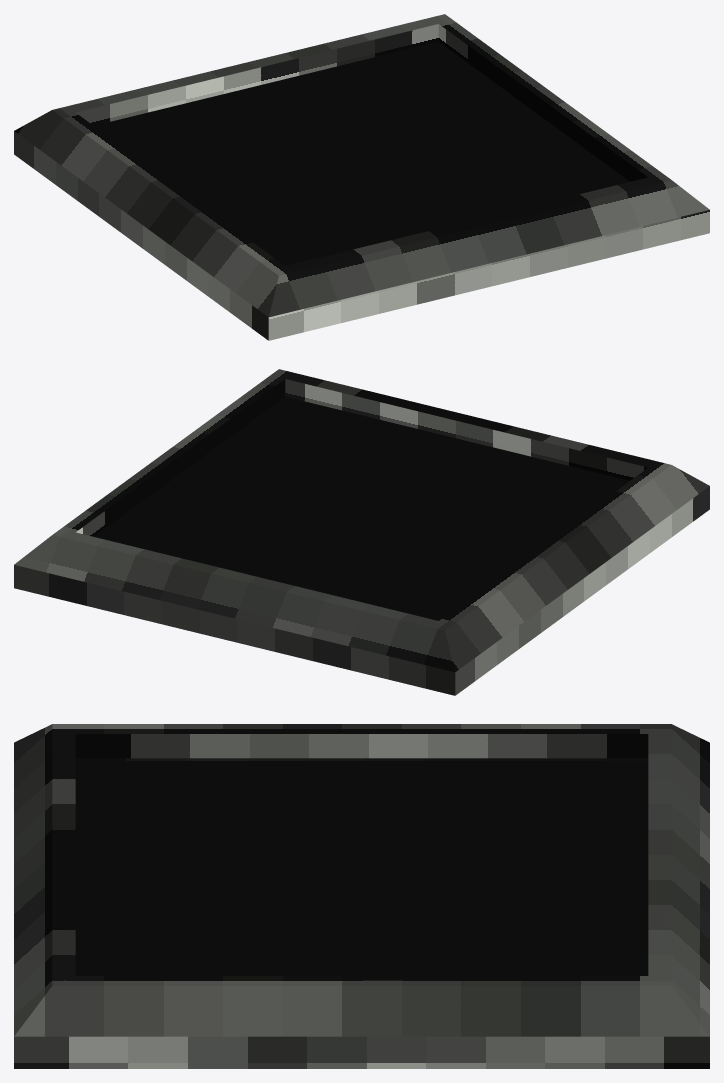
File: plate_base.fbx
3 renders of one model, top to bottom at view 1: azimuth 30°, elevation 25°; view 2: azimuth 150°, elevation 25°; view 3: azimuth 270°, elevation 25°, orthographic. The views are drawn at different scales.
Parts seen in each view (by area): view 1: Plane.007; view 2: Plane.007; view 3: Plane.007.
Part boxes in pixels (left/top/right/bottom): Plane.007: left=14, top=14, right=709, bottom=340; Plane.007: left=14, top=369, right=709, bottom=695; Plane.007: left=14, top=724, right=709, bottom=1068.
Bounding box in the file's own units: 1.99 × 0.2101 × 1.99.
Materials: 1 (1 with a texture image).
